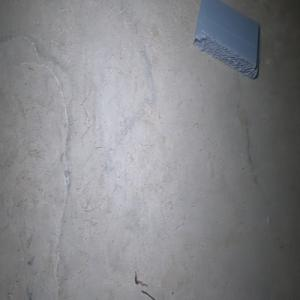PlasticPart: (192, 0, 260, 79)
